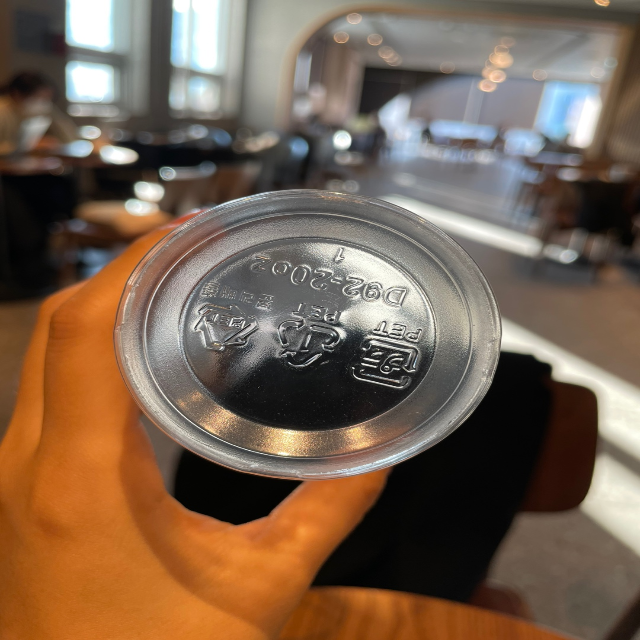pet: (184, 273, 277, 360), (346, 317, 425, 392), (275, 293, 343, 371)
